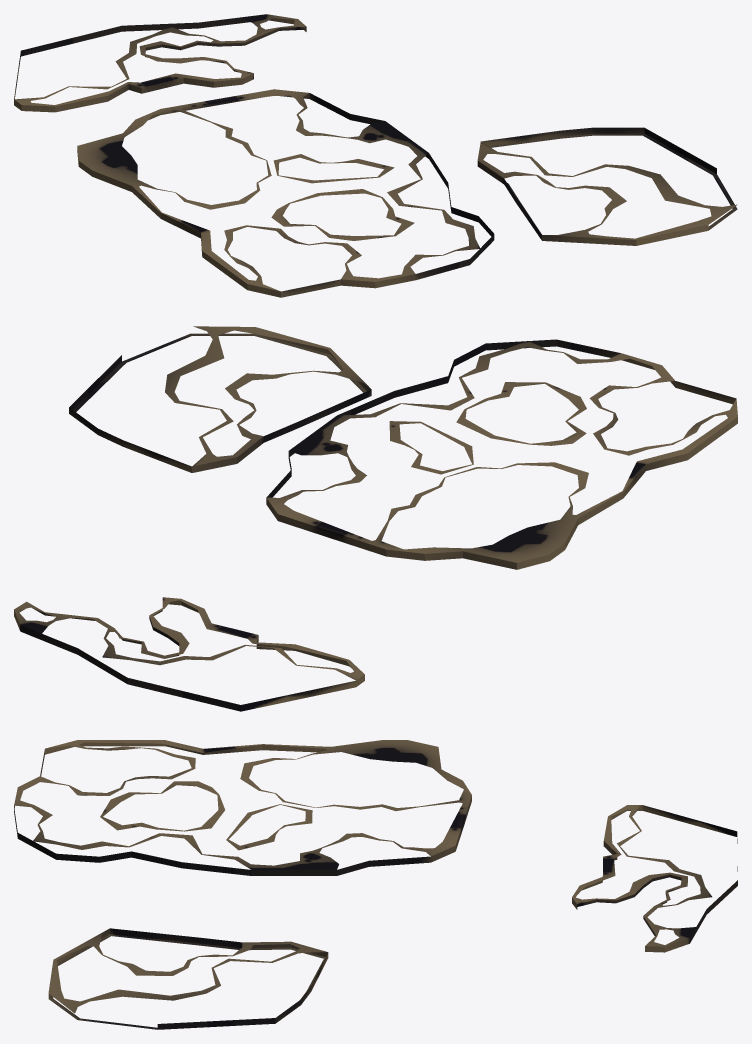
File: Ground_01.FBX
3 renders of one model, top to bottom at view 1: azimuth 30°, elevation 25°; view 2: azimuth 150°, elevation 25°; view 3: azimuth 270°, elevation 25°, orthographic. The views are drawn at different scales.
Parts seen in each view (by area): view 1: Ground_01; view 2: Ground_01; view 3: Ground_01.
Part boxes in pixels (x1,y1,x2,y2): Ground_01: [14, 14, 737, 297]; Ground_01: [14, 326, 737, 711]; Ground_01: [14, 740, 737, 1029].
Size of the model in its own units: 35.93 by 3.05 by 44.85.
